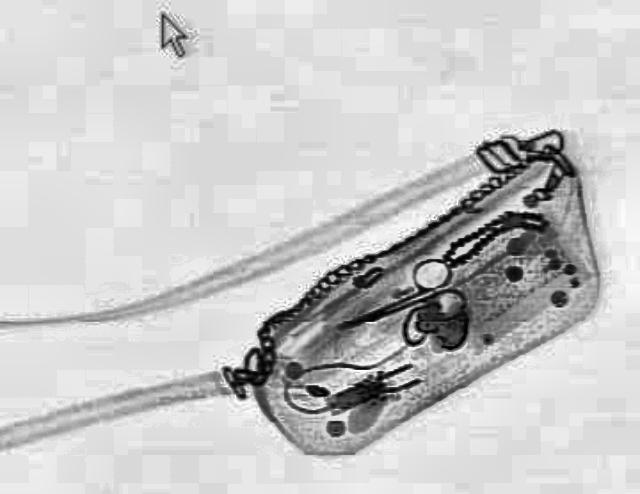Scissors: (316, 251, 480, 351)
